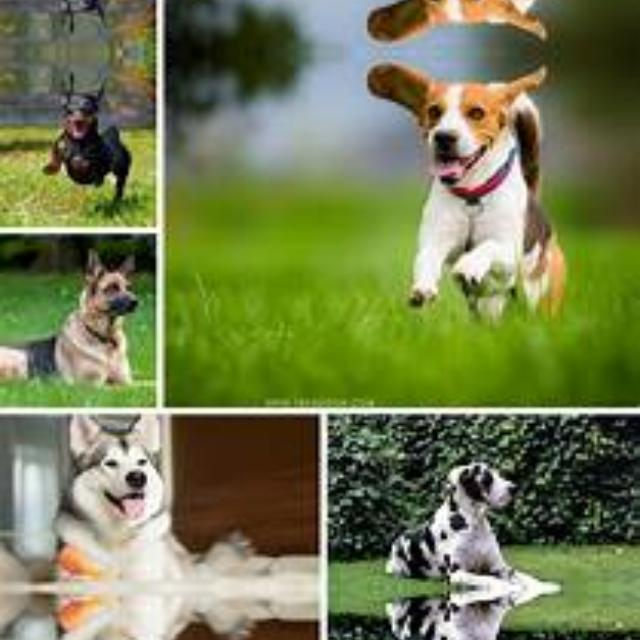dog: (368, 56, 630, 316), (54, 412, 238, 588), (373, 440, 559, 588), (4, 256, 184, 386), (24, 80, 154, 212), (368, 0, 630, 48), (373, 587, 559, 640), (54, 588, 238, 640), (24, 0, 154, 23)
